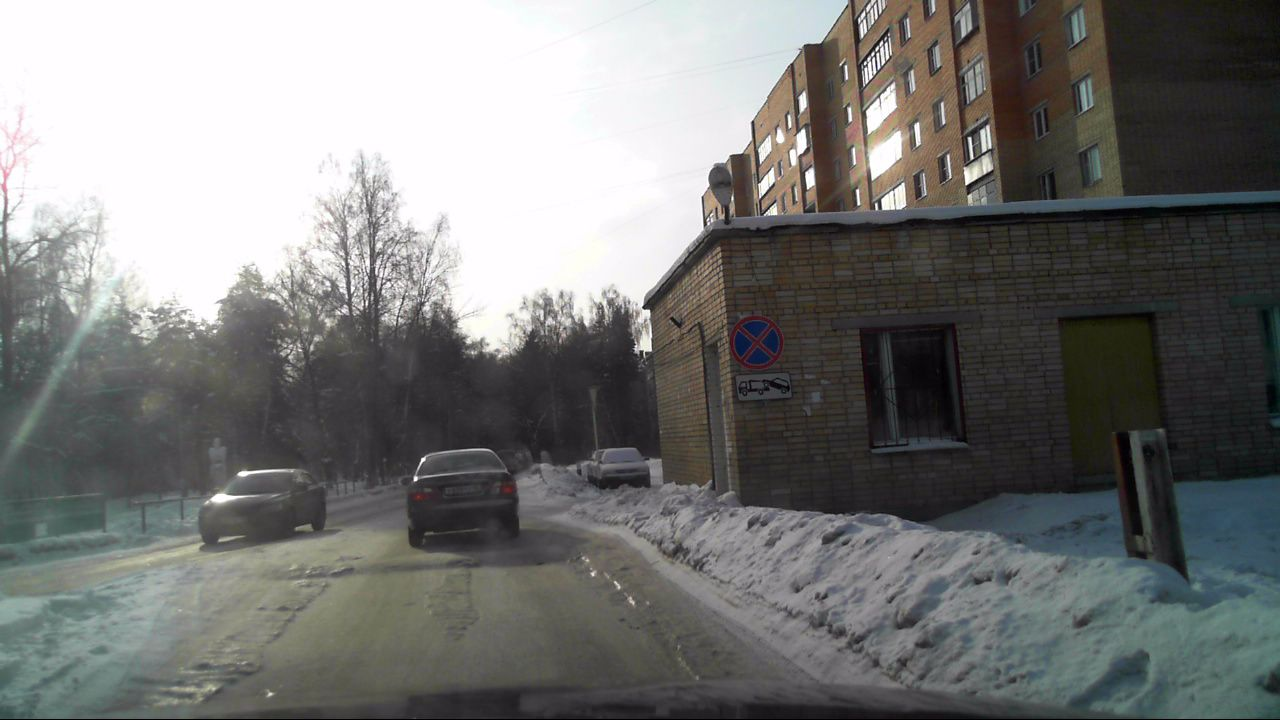No Parking: (731, 315, 784, 369)
